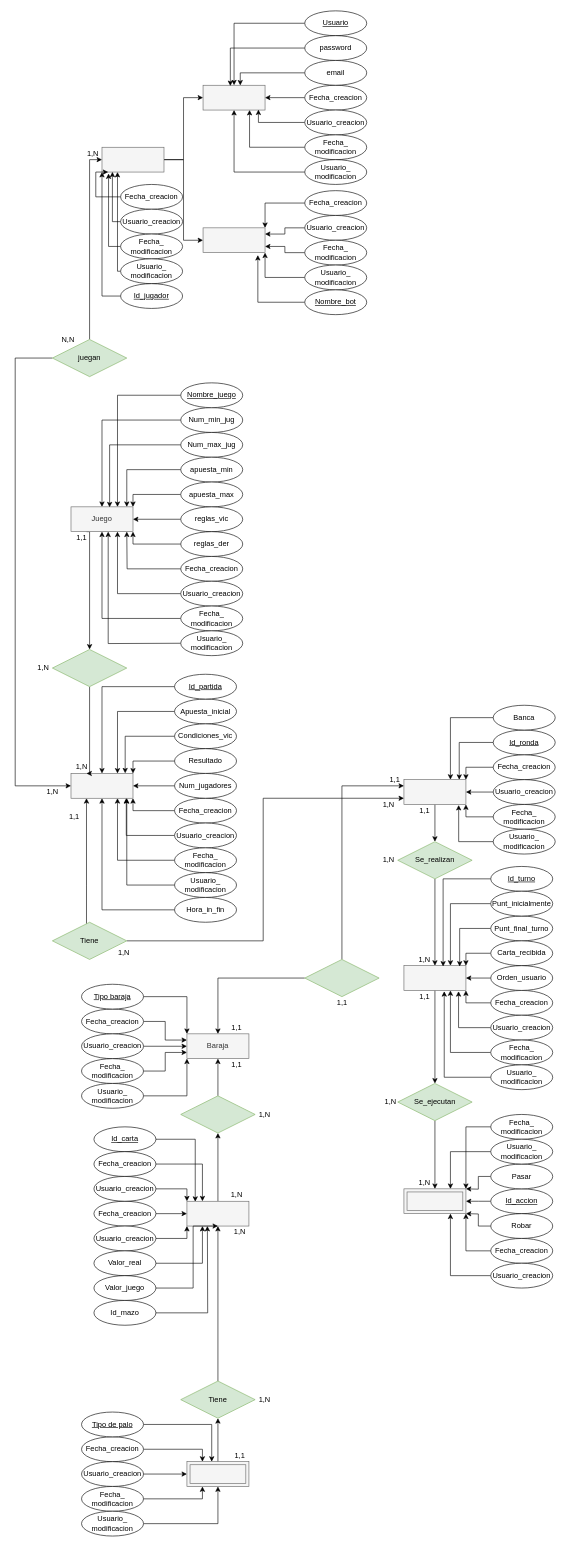
The diagram is 566 pixels wide and 1547 high, and some of its shapes have lost their labels. Here are the shapes that lost their labels. From the top down, the centre of each, then its label:
the point at 233,97: Humanos
the point at 132,159: Jugadores
the point at 233,240: Bots
the point at 89,668: se_juegan
the point at 101,785: Partida
the point at 434,791: Ronda
the point at 341,978: Usan
the point at 434,977: Turnos
the point at 217,1114: Contiene
the point at 217,1213: Carta
the point at 434,1201: Accion
the point at 217,1473: Palo
